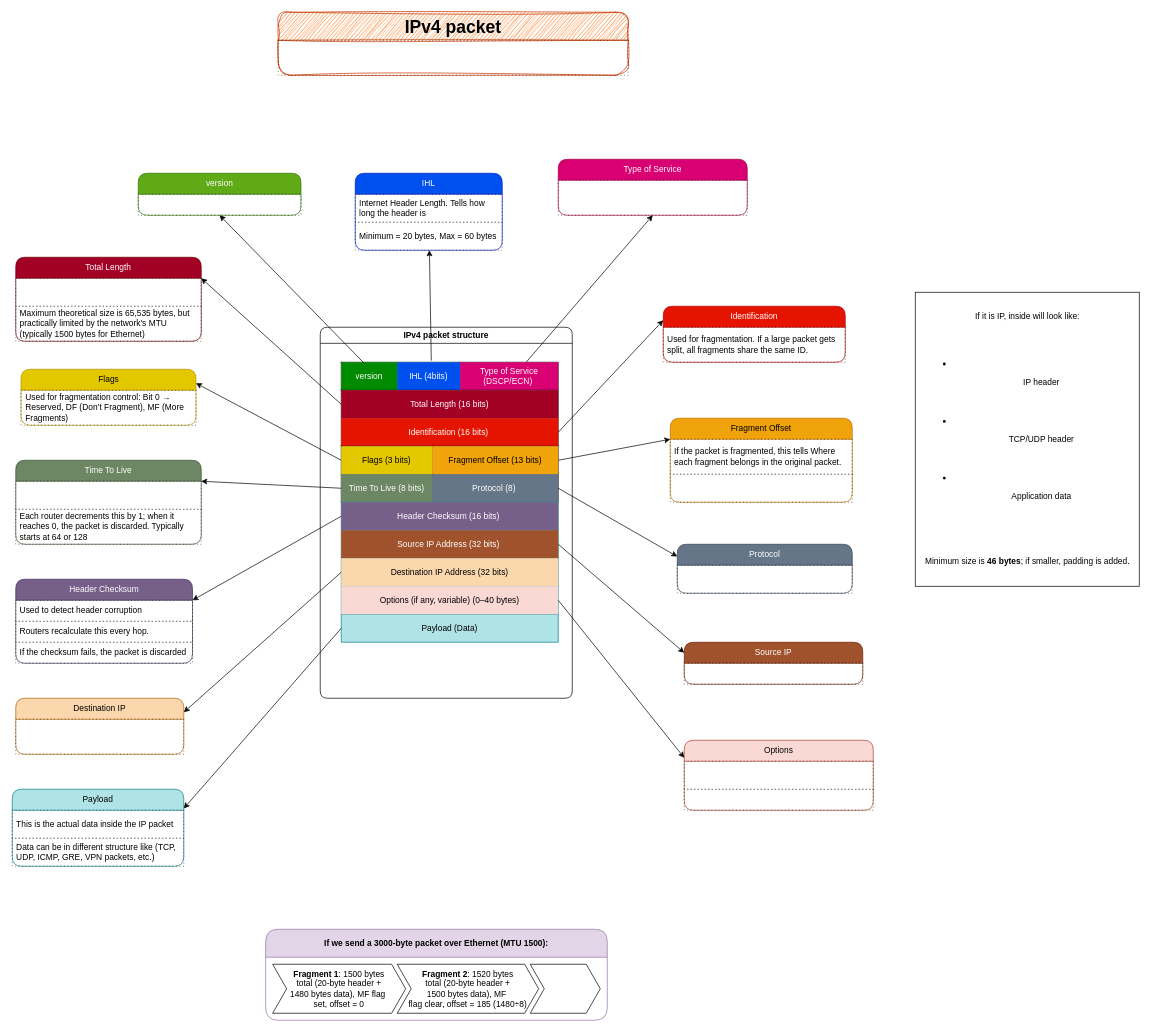
This 1152x1033 diagram has some shape labels left out. Here are the shapes that lost their labels. From the top down, the centre of each, then its label:
[453,57]: An IP packet is also called an IP datagram
[219,204]: whether IPv4 or IPv6
[652,197]: Used for QoS (Quality of Service). DSCP (6 bits), ECN (2 bits)
[108,292]: Total size of entire IP packet. Header + Payload
[108,495]: How many hops the packet can pass through
[761,488]: measured in 8-byte blocks. The first fragment has offset 0
[764,579]: Tells what is inside the packet’s payload.TCP → 6, UDP → 17, ICMP → 1 etc
[773,673]: Our device’s IP address
[99,736]: IP of the remote device your packet is going to.
[778,775]: Rarely used.Mostly ignored by modern networks
[778,799]: Security options, Record route, Timestamp
[565,988]: so on...
